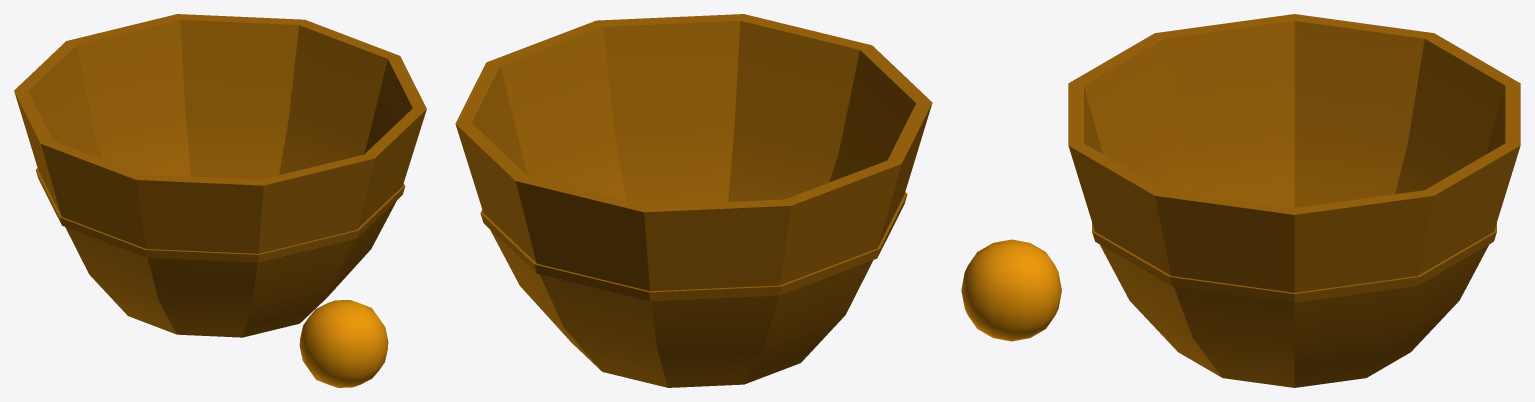
The model's file is Protons (Basket and Ball).fbx.
3 views of the same model, side by side, from view 1: azimuth 30°, elevation 25°; view 2: azimuth 150°, elevation 25°; view 3: azimuth 270°, elevation 25° (orthographic). The views are drawn at different scales.
Parts seen in each view (by area): view 1: pCylinder5, pCube2; view 2: pCylinder5; view 3: pCylinder5, pCube2.
Part boxes in pixels (bbox=[...]): pCylinder5: bbox=[14, 14, 426, 337]; pCube2: bbox=[299, 300, 388, 387]; pCylinder5: bbox=[455, 14, 932, 387]; pCylinder5: bbox=[1068, 14, 1520, 387]; pCube2: bbox=[961, 239, 1061, 341].
Bounding box in the file's own units: 16.5 × 8.49 × 19.41.
